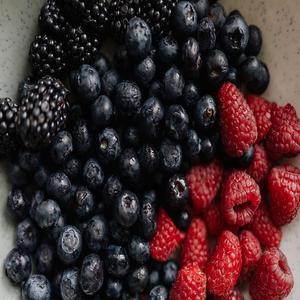raspb: (188, 167, 300, 300)
